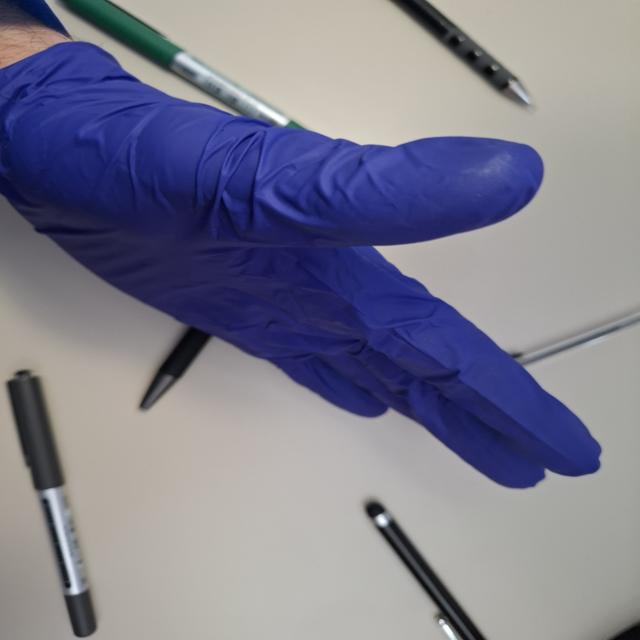glove_on: (0, 38, 608, 490)
